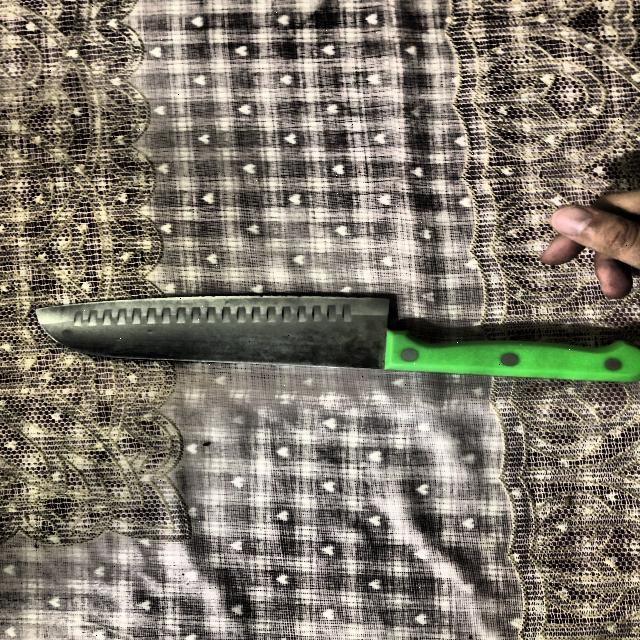knife: (33, 292, 640, 382)
